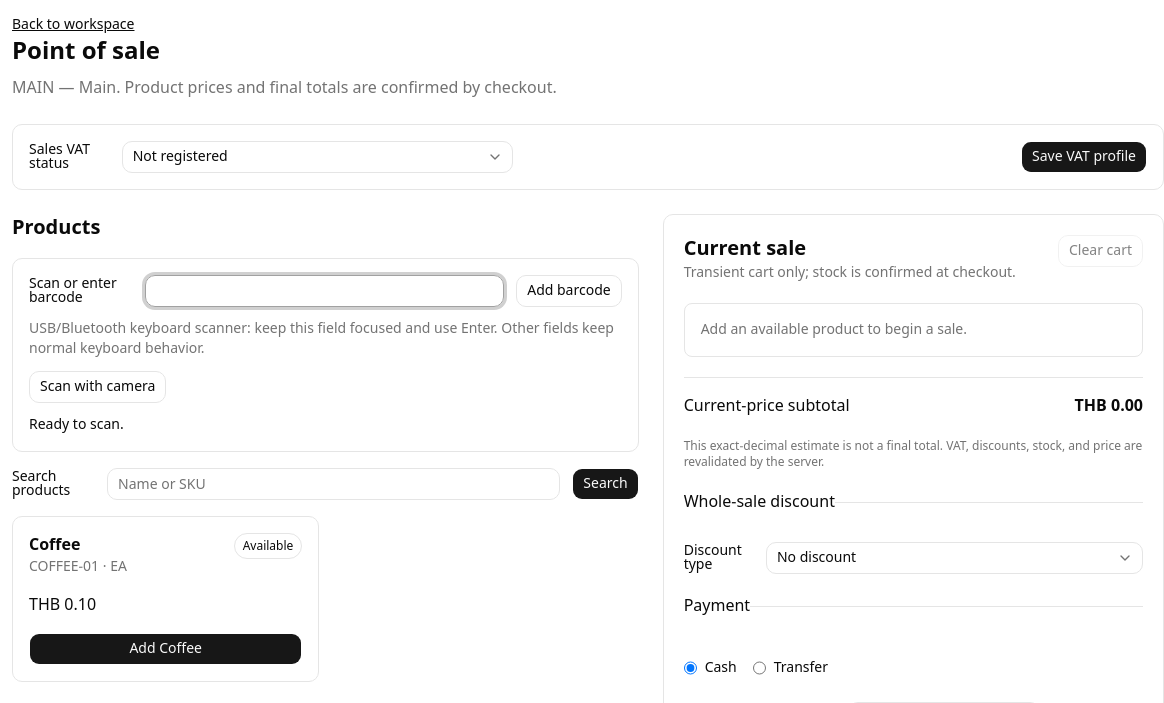
Test: POS management UI › auto-adds one exact available barcode match without pointer-only interaction
Expected: the button "Add Coffee" is shown, [29,633,302,665]
Type "8850000000000" into the field labelled "Scan or enter barcode".
click(325, 291); type("8850000000000")  # box [145,275,504,307]
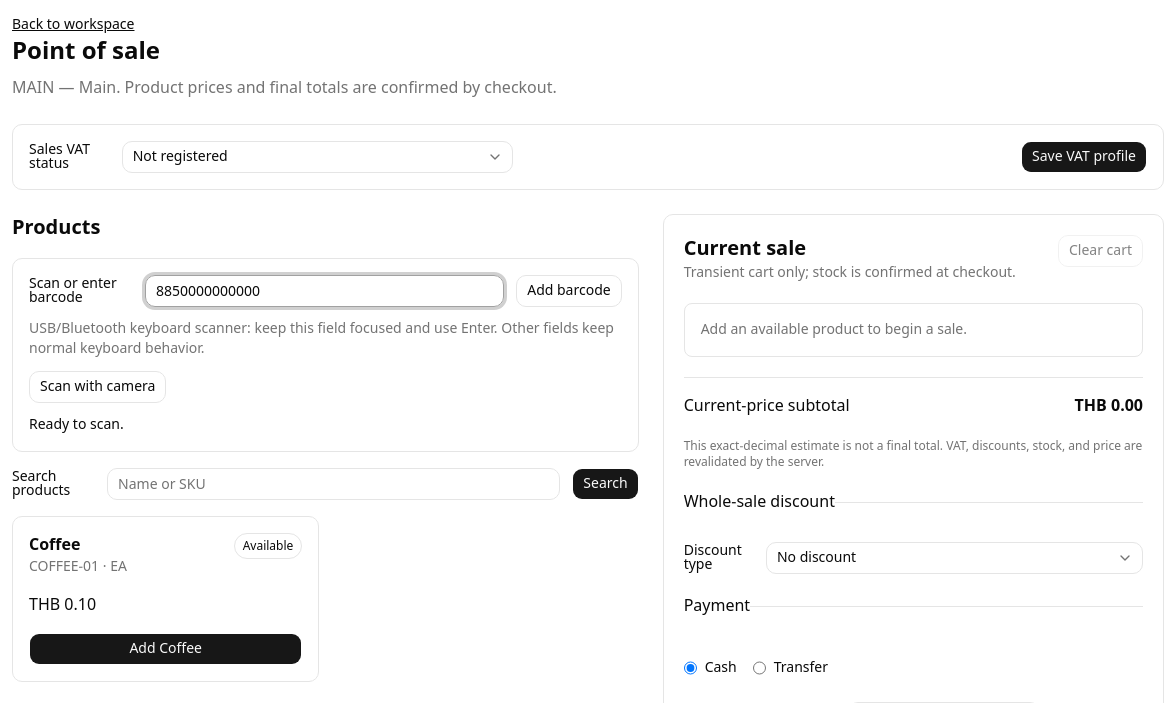
Submit the form named "Scan POS barcode", box [29,275,622,307]
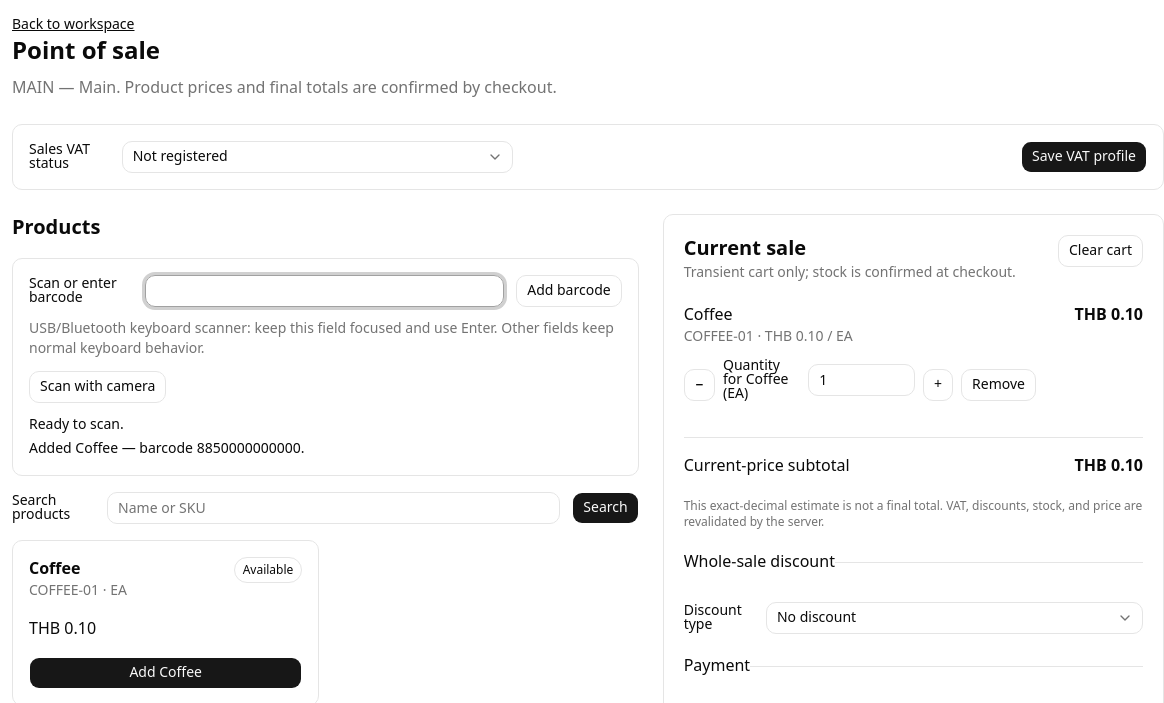
Expected: the list named "Cart items" is shown, [684,303,1143,417]
Expected: the field showing "1" is shown, [808,364,915,396]
